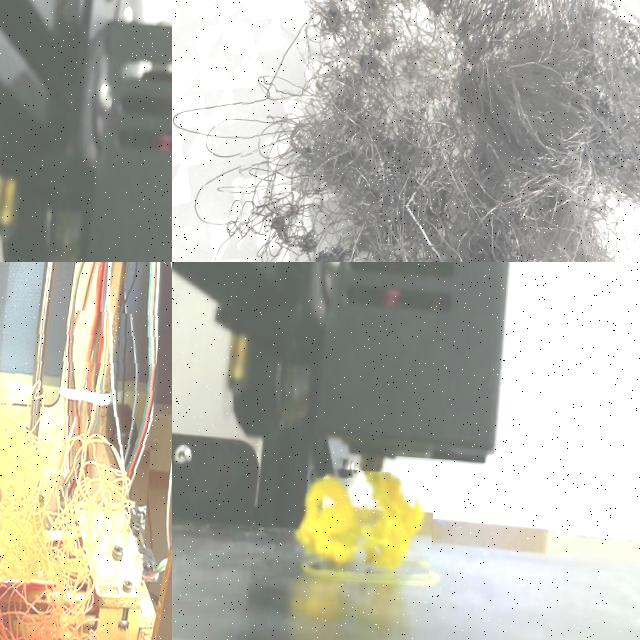spaghetti: (212, 0, 640, 262), (0, 284, 159, 640), (284, 465, 436, 587)
